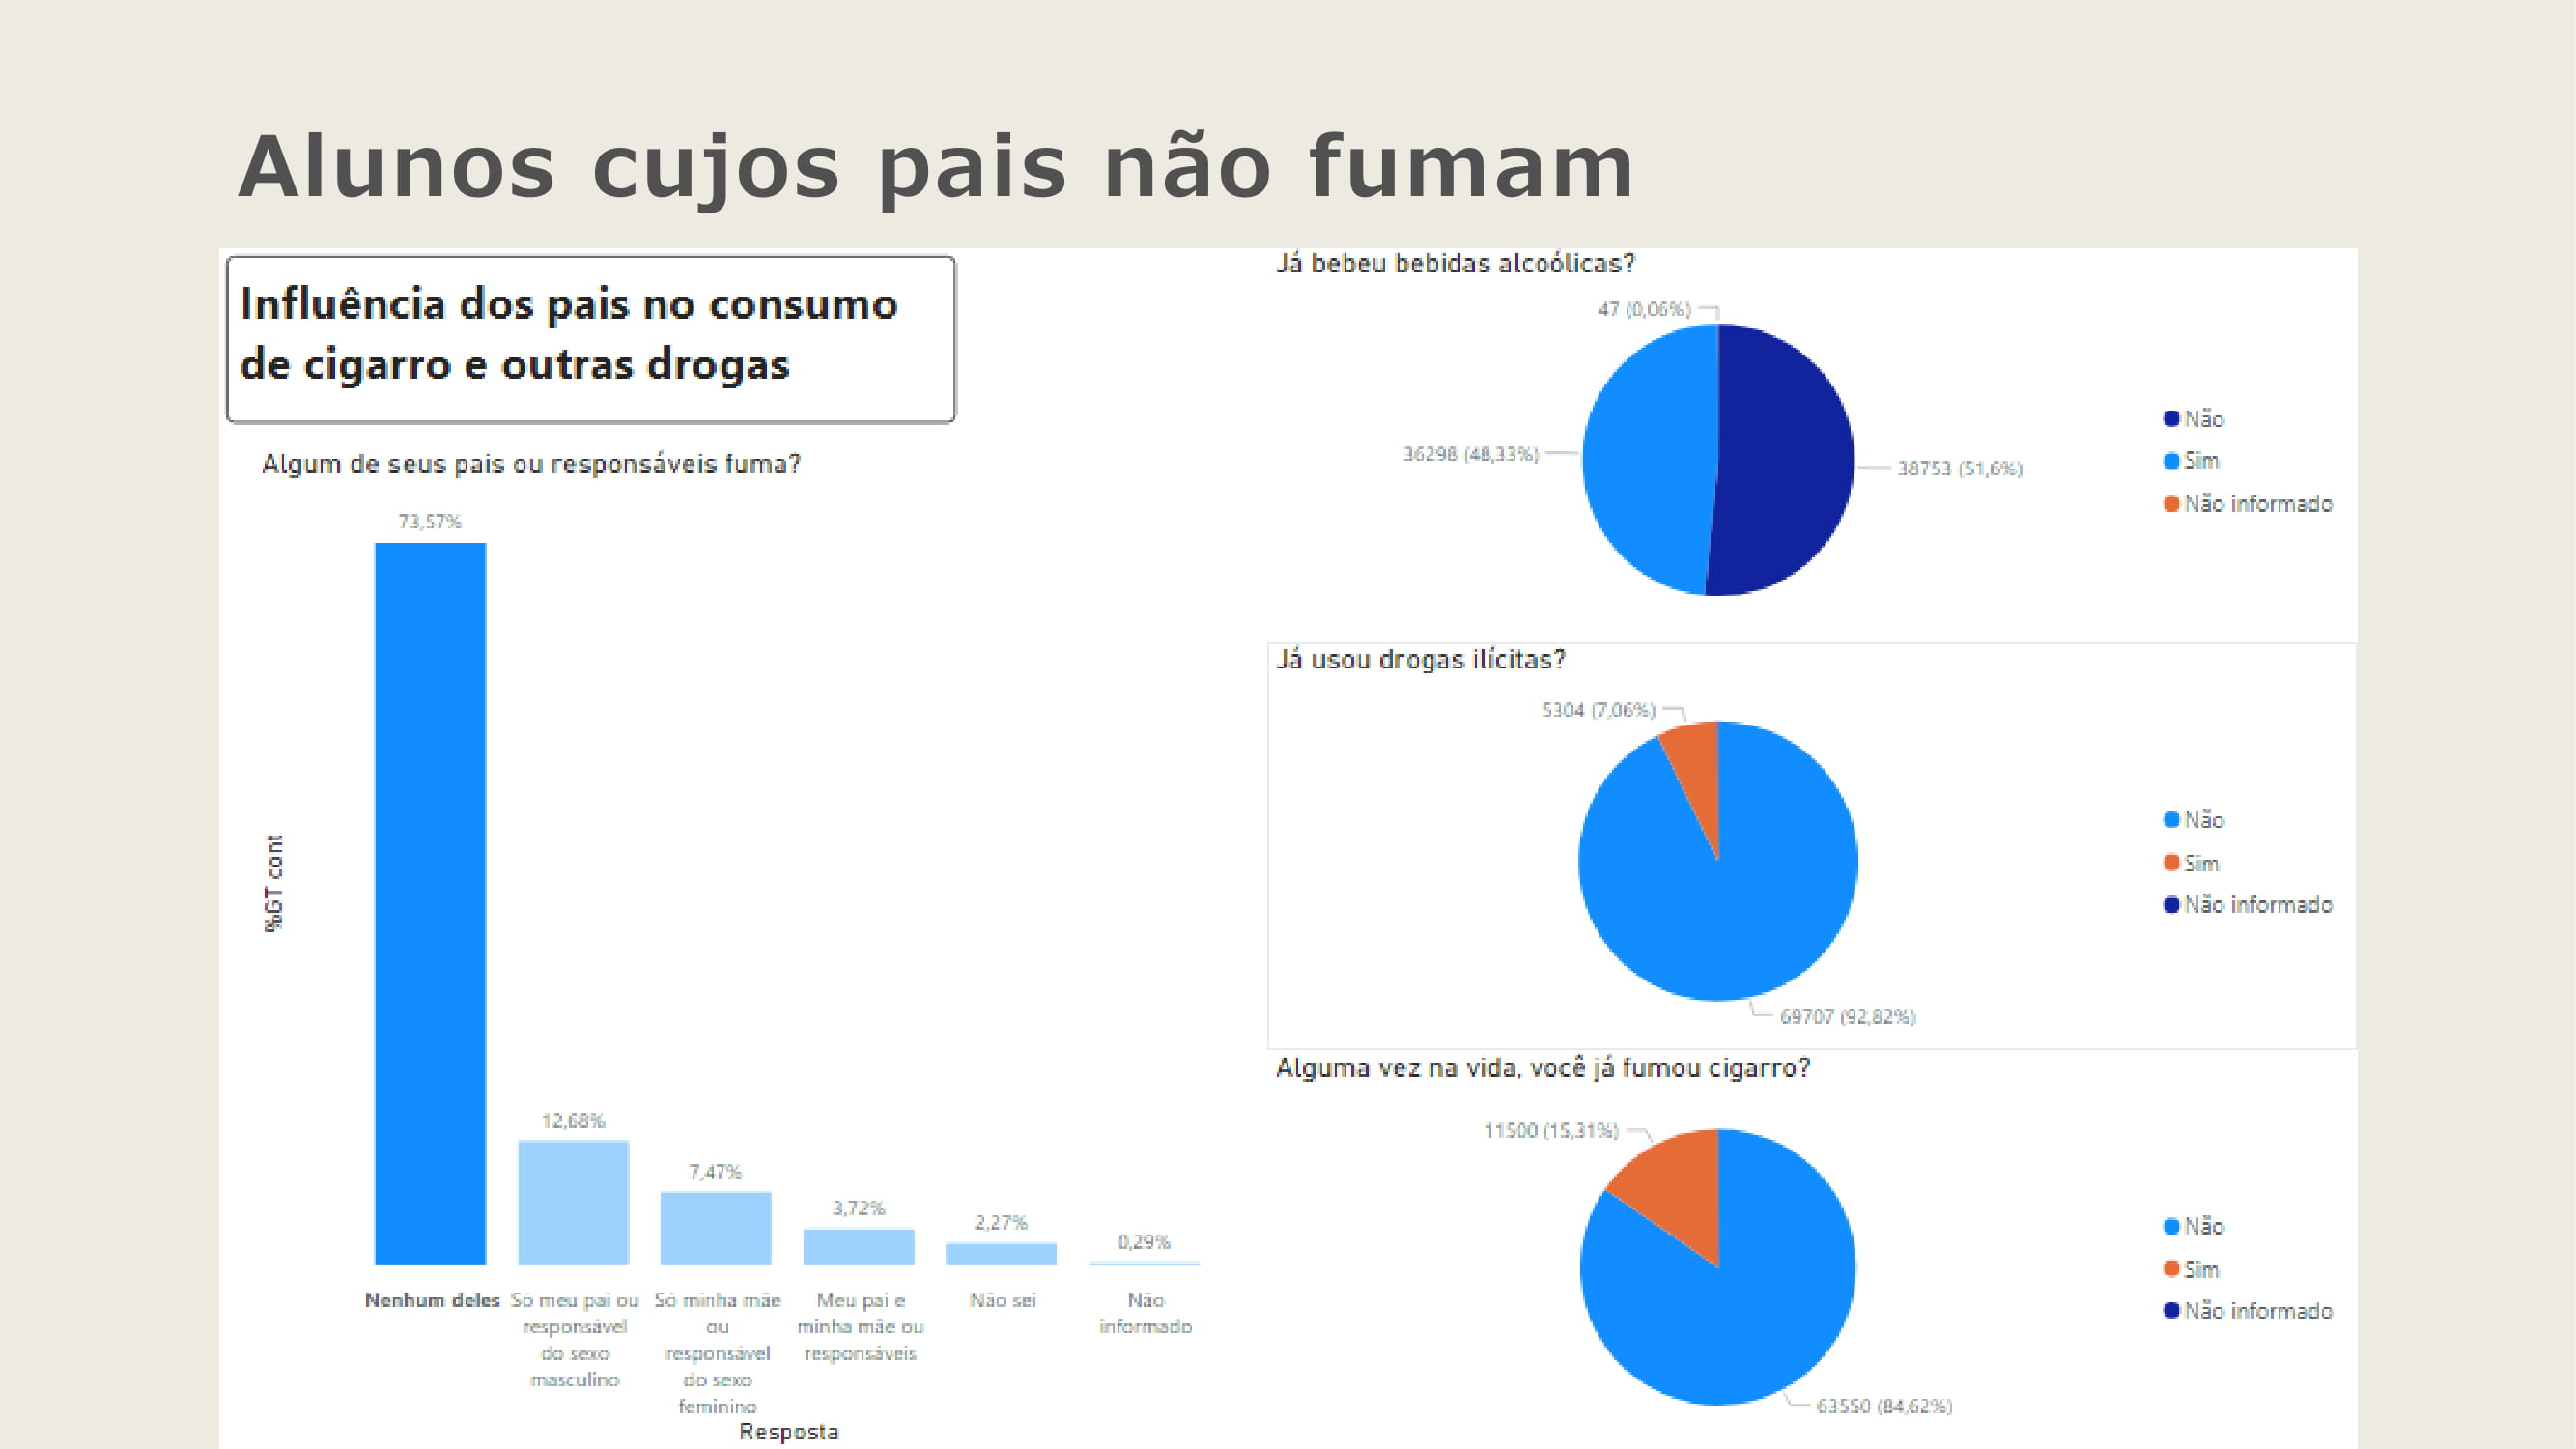

The dashboard page shown, as its layout file describes it:
{"tool":"powerbi","page":{"name":"Pais drogas","canvas":[1280,720],"ordinal":0},"visuals":[{"type":"clusteredColumnChart","title":"Algum de seus pais ou responsáveis fuma?","fields":{"Y":["Sum(Respotas_Questionario.cont)"],"Category":["P_Algum de seus pais ou responsáveis fuma?.Resposta"]},"box":[21.1,119.2,606.8,600.8],"z":0},{"type":"pieChart","title":"Alguma vez na vida, você já fumou cigarro?","fields":{"Category":["P_Já fumou cigarro?.Resposta"],"Y":["Sum(Respotas_Questionario.cont)"]},"box":[627.9,480,652.1,240],"z":1000},{"type":"textbox","box":[5.8,5.8,435.8,99.6],"z":2000},{"type":"pieChart","title":"Já bebeu bebidas alcoólicas?","fields":{"Y":["Sum(Respotas_Questionario.cont)"],"Category":["P_Já usou álcool?.Resposta"]},"box":[627.9,0,652.1,237],"z":3000},{"type":"pieChart","title":"Já usou drogas ilícitas?","fields":{"Category":["P_Já usou drogas ilícitas?.Resposta"],"Y":["Sum(Respotas_Questionario.cont)"]},"box":[627.9,237,652.1,243],"z":4000}]}

Visuals, with their boxes in screenshot pixels (x1, y1, x2, y2), scaled from the page's 1280x720 canvas onto the 2576x1449 screenshot:
"Algum de seus pais ou responsáveis fuma?" clusteredColumnChart: <bbox>42, 240, 1263, 1448</bbox>
"Alguma vez na vida, você já fumou cigarro?" pieChart: <bbox>1263, 966, 2575, 1448</bbox>
textbox: <bbox>12, 12, 889, 213</bbox>
"Já bebeu bebidas alcoólicas?" pieChart: <bbox>1263, 0, 2575, 477</bbox>
"Já usou drogas ilícitas?" pieChart: <bbox>1263, 477, 2575, 966</bbox>
